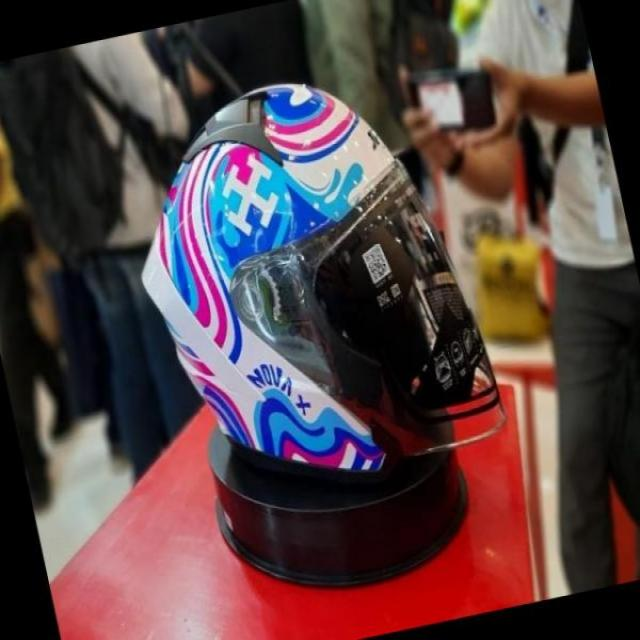Helmet: (134, 83, 526, 541)
